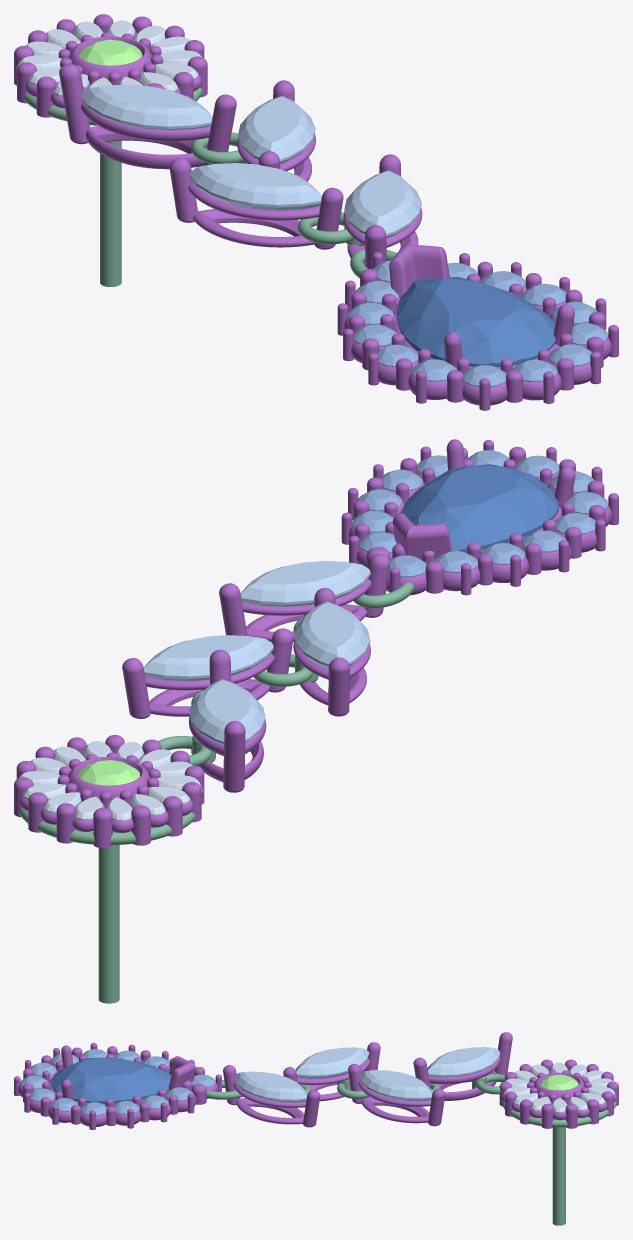
The picture shows the model from 3 angles, top to bottom: view 1: azimuth 30°, elevation 25°; view 2: azimuth 150°, elevation 25°; view 3: azimuth 270°, elevation 25°; orthographic projection. The views are drawn at different scales.
Visible parts, largest first — view 1: Aretes propuesta.3dm, Gem (×17); view 2: Aretes propuesta.3dm, Gem (×6); view 3: Aretes propuesta.3dm, Gem (×6).
Part boxes in pixels (x1,y1,x2,y2): Aretes propuesta.3dm: (14, 14, 618, 410); Gem (×17): (79, 39, 608, 386); Aretes propuesta.3dm: (14, 439, 618, 1003); Gem (×6): (78, 464, 558, 785); Aretes propuesta.3dm: (14, 1032, 618, 1225); Gem (×6): (51, 1047, 578, 1103).
Bounding box in the file's own units: 1.02 × 1.11 × 3.7.
